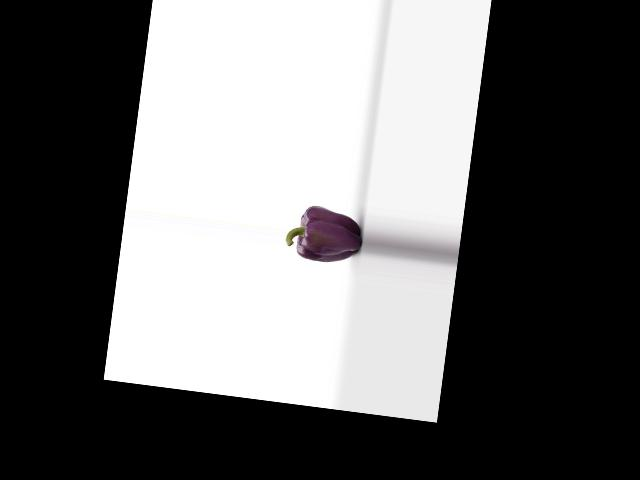bell_pepper: (284, 198, 364, 272)
